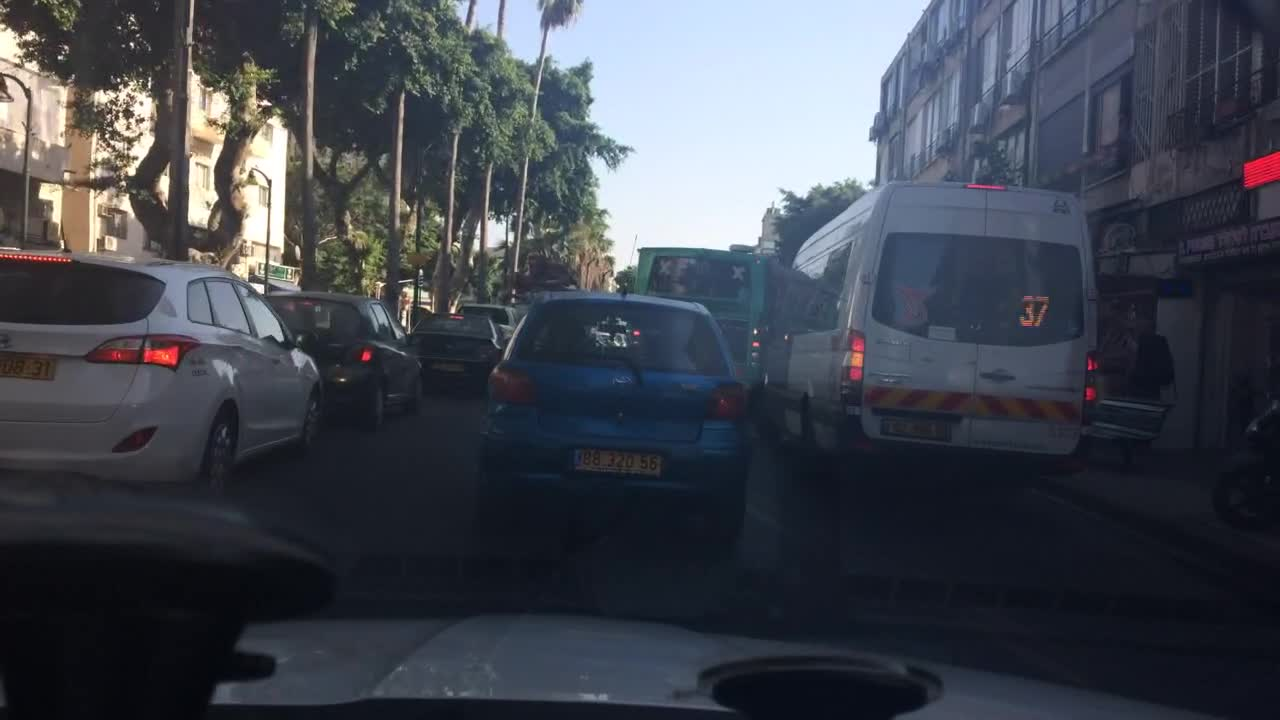bus: (758, 182, 1095, 482), (631, 244, 766, 393)
car: (475, 232, 749, 546), (0, 245, 323, 502), (257, 291, 425, 432), (408, 311, 501, 398), (452, 298, 516, 326)
motor: (1207, 383, 1275, 534)
person: (1100, 296, 1144, 398), (1136, 311, 1175, 406)
traffic sign: (252, 260, 296, 281)
